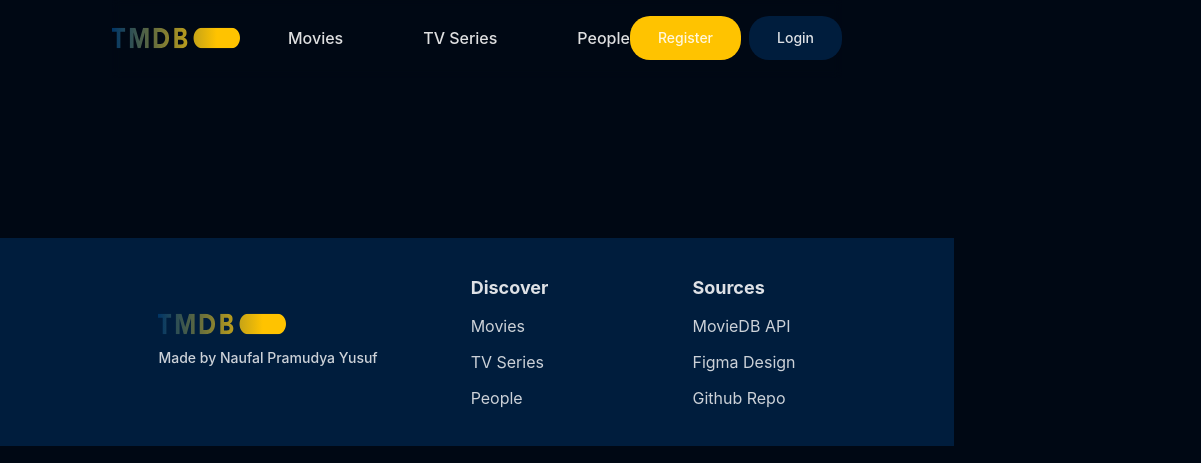
Scenario: Layout consisting of header and footer › should direct to discover movies page
Click the link "Movies" in the row of "Register".
click(316, 38)  # box x1=288 y1=26 x2=343 y2=50
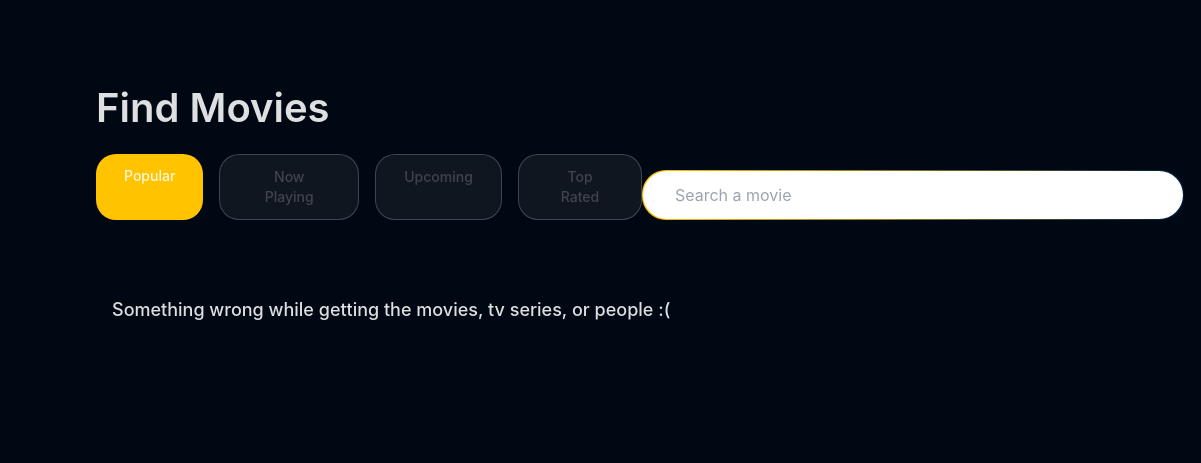
Now the heading "Find Movies" is shown, box x1=96 y1=83 x2=330 y2=132
